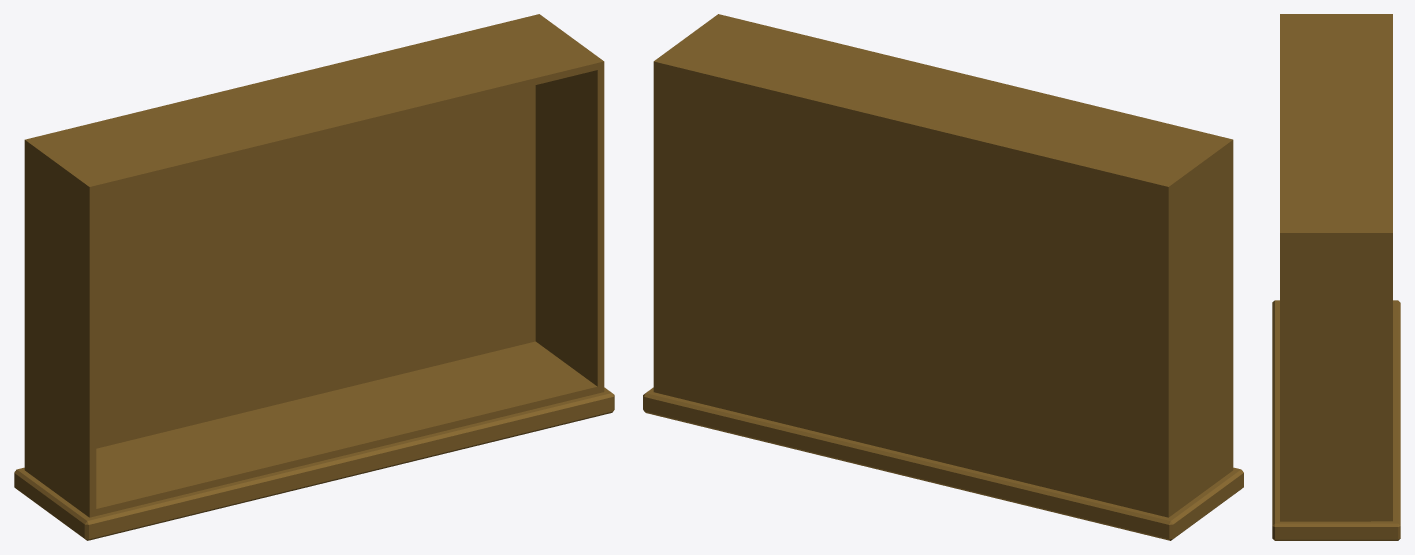
The model's file is DrawermeshDresserDrawer_315_4_8.obj.
The picture shows the model from 3 angles, left to right: view 1: azimuth 30°, elevation 25°; view 2: azimuth 150°, elevation 25°; view 3: azimuth 270°, elevation 25°; orthographic projection. The views are drawn at different scales.
Visible parts, largest first — view 1: DresserDrawer_315_4; view 2: DresserDrawer_315_4; view 3: DresserDrawer_315_4.
Part boxes in pixels (bbox=[...]): DresserDrawer_315_4: bbox=[14, 14, 614, 540]; DresserDrawer_315_4: bbox=[643, 14, 1243, 540]; DresserDrawer_315_4: bbox=[1272, 14, 1400, 540].
Bounding box in the file's own units: 0.7899 × 0.5169 × 0.1902.
